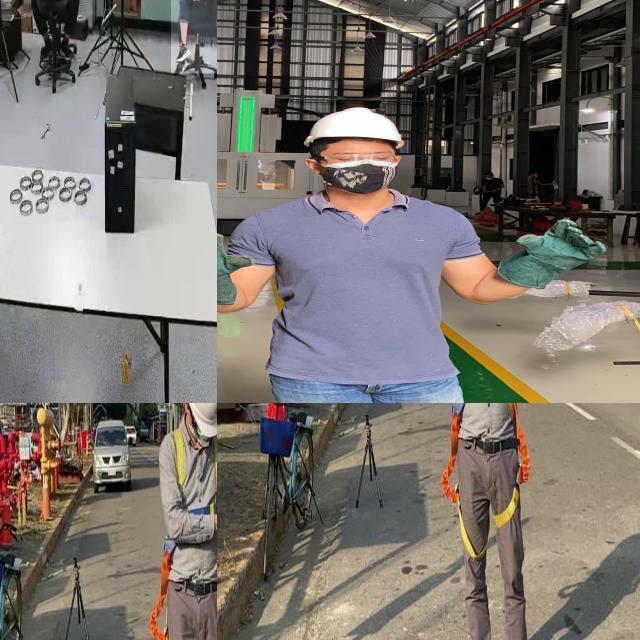Harness: (464, 403, 531, 530), (174, 428, 217, 514), (149, 544, 186, 640), (441, 403, 467, 503)
face_mask: (312, 148, 404, 192)
glasses: (303, 152, 401, 168)
hand_glove: (508, 214, 616, 272), (217, 229, 259, 285)
head_helmet: (296, 102, 412, 148)
person: (217, 99, 617, 403), (171, 0, 217, 74)
shoes: (173, 39, 192, 66), (59, 35, 75, 63), (41, 36, 55, 63)
